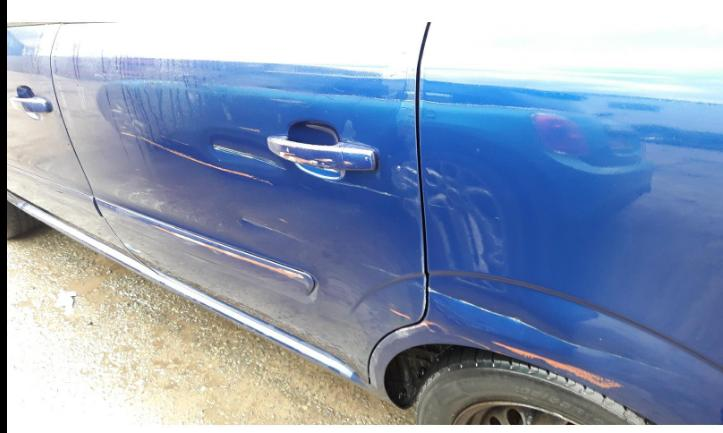Back-door: (50, 22, 429, 383)
Back-wheel: (416, 348, 658, 425)
Front-door: (7, 24, 148, 268)
Quarter-panel: (370, 24, 722, 425)
Rocker-panel: (7, 193, 396, 409)
